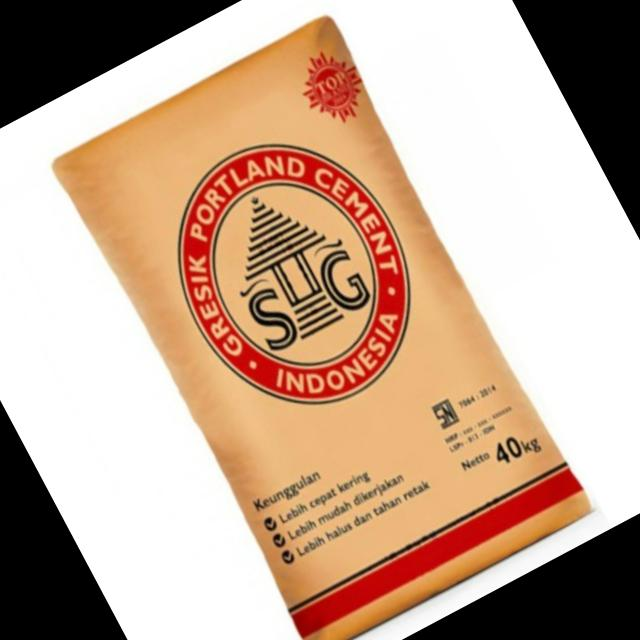KantongSemen: (45, 9, 597, 640)
